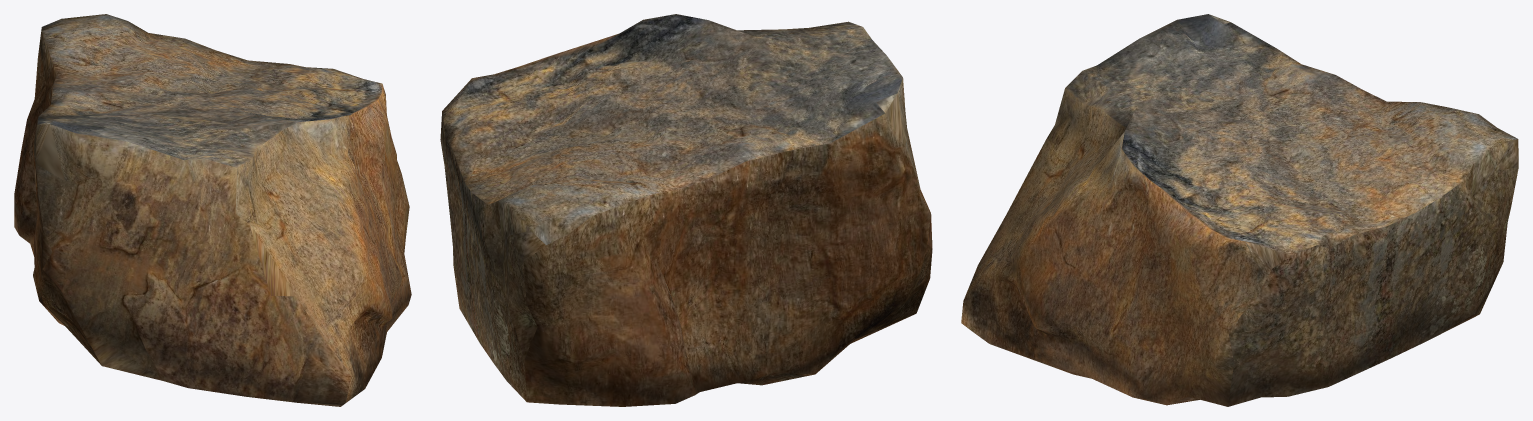
File: boulder_namaqua_03_low.glb
The picture shows the model from 3 angles, left to right: view 1: azimuth 30°, elevation 25°; view 2: azimuth 150°, elevation 25°; view 3: azimuth 270°, elevation 25°; orthographic projection. The views are drawn at different scales.
Parts seen in each view (by area): view 1: boulder_namaqua_03_low; view 2: boulder_namaqua_03_low; view 3: boulder_namaqua_03_low.
Boxes of the visible parts, x1,y1,x2,y2 form: boulder_namaqua_03_low: [14, 14, 411, 406]; boulder_namaqua_03_low: [440, 14, 932, 406]; boulder_namaqua_03_low: [961, 14, 1518, 406].
Size of the model in its own units: 2.39 by 1.46 by 3.06.
1 material, 1 textured.
